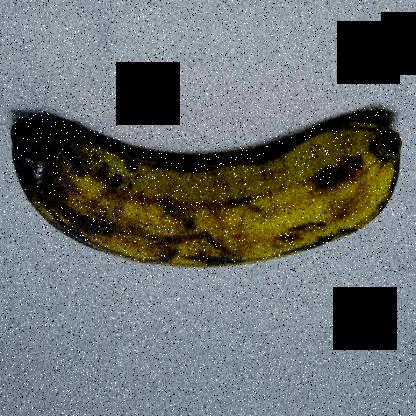overripe: (1, 84, 411, 284)
